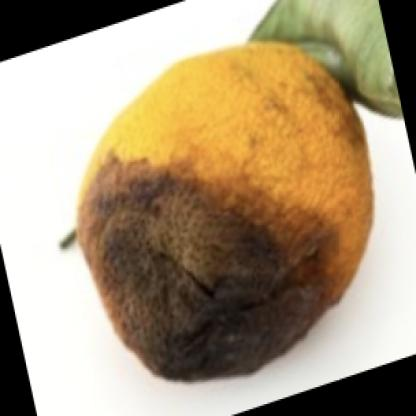rotten_orange: (56, 40, 386, 393)
